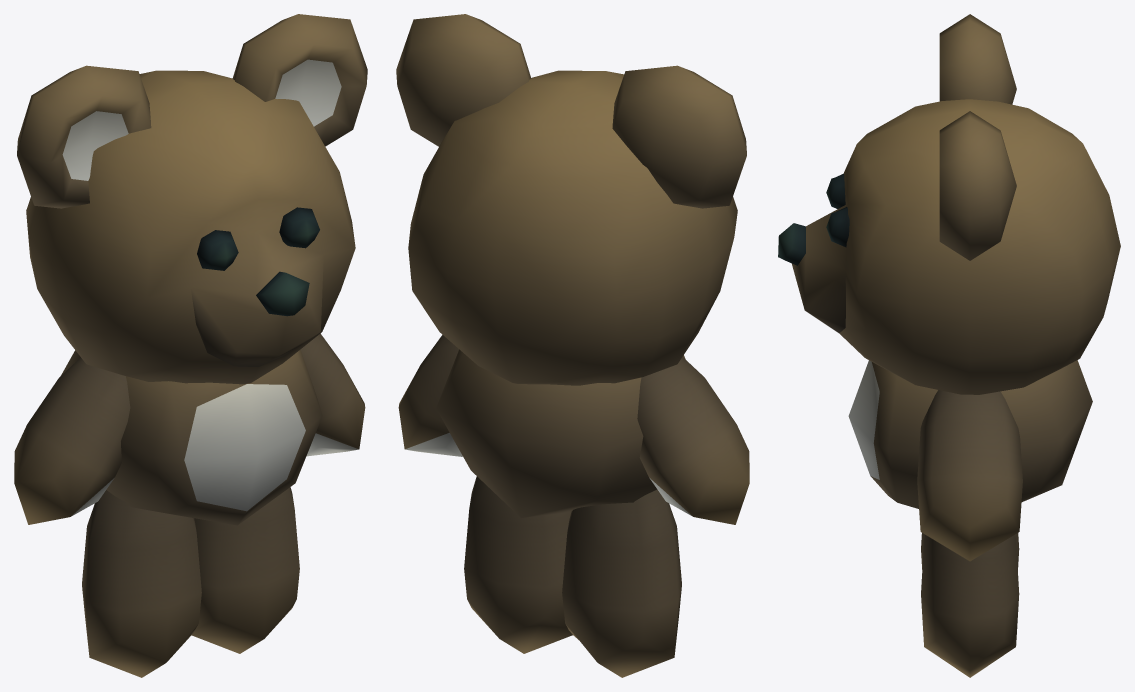
The model's file is teddy1_LOD_setup.fbx.
3 renders of one model, left to right at view 1: azimuth 30°, elevation 25°; view 2: azimuth 150°, elevation 25°; view 3: azimuth 270°, elevation 25°, orthographic. The views are drawn at different scales.
Visible parts, largest first — view 1: teddy1_LOD0; view 2: teddy1_LOD0; view 3: teddy1_LOD0.
Part boxes in pixels (x1,y1,x2,y2): teddy1_LOD0: (14, 14, 367, 677); teddy1_LOD0: (396, 14, 749, 677); teddy1_LOD0: (778, 14, 1120, 677).
Size of what is drawn, in the model's own units: 32.13 by 54.33 by 28.76.
